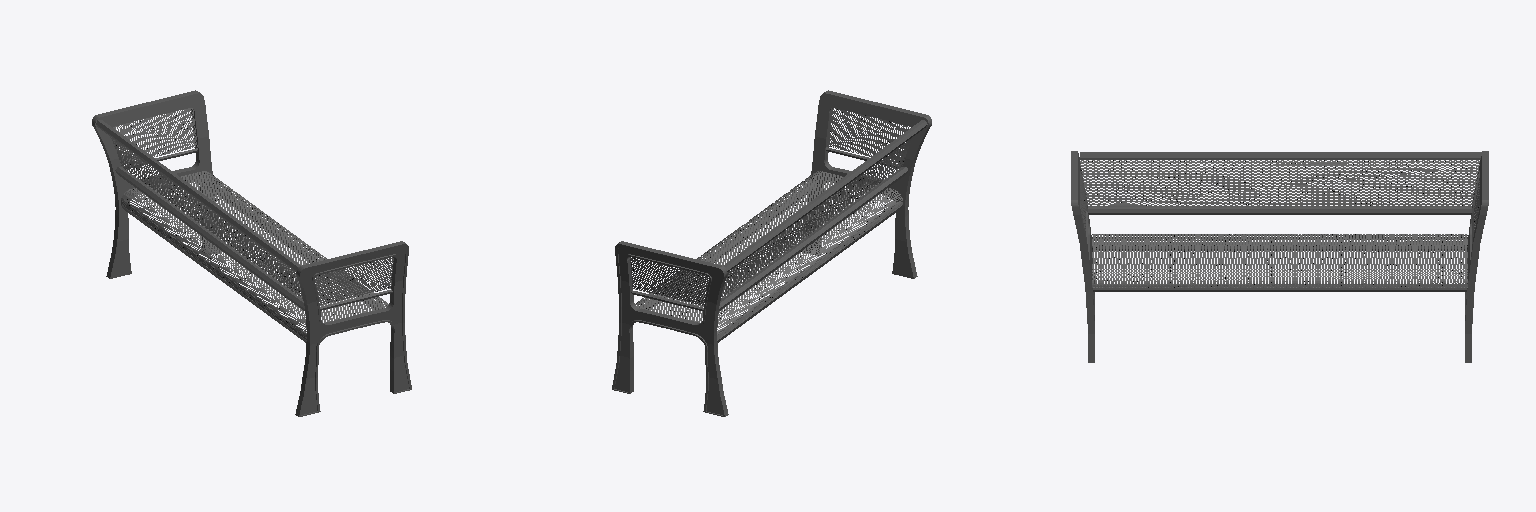
3 renders of one model, left to right at view 1: azimuth 30°, elevation 25°; view 2: azimuth 150°, elevation 25°; view 3: azimuth 270°, elevation 25°, orthographic.
Visible parts, largest first — view 1: mesh1.001_mesh1-geometry, mesh317.002_mesh317-geometry, mesh307.002_mesh307-geometry, mesh24.001_mesh24-geometry, mesh331.002_mesh331-geometry, mesh327.002_mesh327-geometry, mesh196.001_mesh196-geometry, mesh86.001_mesh86-geometry, mesh305.004_mesh305-geometry; view 2: mesh1.001_mesh1-geometry, mesh307.002_mesh307-geometry, mesh317.002_mesh317-geometry, mesh24.001_mesh24-geometry, mesh331.002_mesh331-geometry, mesh327.002_mesh327-geometry, mesh86.001_mesh86-geometry, mesh196.001_mesh196-geometry, mesh305.004_mesh305-geometry; view 3: mesh1.001_mesh1-geometry, mesh24.001_mesh24-geometry, mesh331.002_mesh331-geometry, mesh327.002_mesh327-geometry, mesh307.002_mesh307-geometry, mesh317.002_mesh317-geometry, mesh305.003_mesh305-geometry, mesh2.001_mesh2-geometry, mesh305.004_mesh305-geometry.
Boxes of the visible parts, box(x1,y1,x2,y2) form: mesh1.001_mesh1-geometry: box(121, 171, 388, 339); mesh317.002_mesh317-geometry: box(295, 241, 411, 416); mesh307.002_mesh307-geometry: box(92, 90, 222, 278); mesh24.001_mesh24-geometry: box(110, 136, 302, 298); mesh331.002_mesh331-geometry: box(96, 120, 300, 271); mesh327.002_mesh327-geometry: box(115, 167, 304, 310); mesh196.001_mesh196-geometry: box(113, 108, 197, 163); mesh86.001_mesh86-geometry: box(314, 257, 393, 305); mesh305.004_mesh305-geometry: box(121, 202, 306, 342); mesh1.001_mesh1-geometry: box(635, 171, 902, 339); mesh307.002_mesh307-geometry: box(612, 241, 728, 416); mesh317.002_mesh317-geometry: box(804, 90, 931, 278); mesh24.001_mesh24-geometry: box(721, 136, 913, 298); mesh331.002_mesh331-geometry: box(723, 120, 927, 271); mesh327.002_mesh327-geometry: box(719, 167, 908, 310); mesh86.001_mesh86-geometry: box(826, 108, 908, 161); mesh196.001_mesh196-geometry: box(630, 257, 709, 305); mesh305.004_mesh305-geometry: box(717, 202, 902, 342); mesh1.001_mesh1-geometry: box(1092, 234, 1467, 286); mesh24.001_mesh24-geometry: box(1080, 160, 1479, 206); mesh331.002_mesh331-geometry: box(1080, 152, 1481, 159); mesh327.002_mesh327-geometry: box(1088, 207, 1471, 214); mesh307.002_mesh307-geometry: box(1465, 151, 1488, 362); mesh317.002_mesh317-geometry: box(1071, 151, 1094, 362); mesh305.003_mesh305-geometry: box(1092, 284, 1466, 291); mesh2.001_mesh2-geometry: box(1093, 283, 1467, 287); mesh305.004_mesh305-geometry: box(1092, 242, 1467, 250).
Size of the model in its own units: 0.2933 by 0.3635 by 0.8842.
Materials: 3 (1 with a texture image).